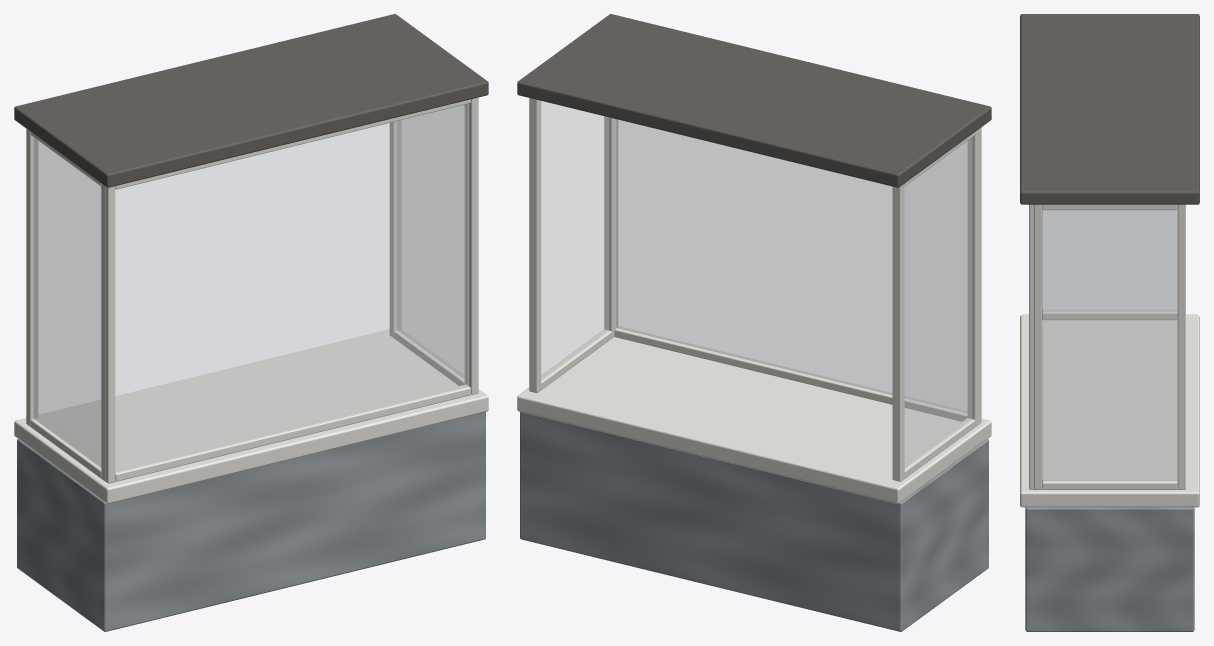
The model's file is paranormal-investigation-house-bay-window-7b2f5081__26703.glb.
3 renders of one model, left to right at view 1: azimuth 30°, elevation 25°; view 2: azimuth 150°, elevation 25°; view 3: azimuth 270°, elevation 25°, orthographic. The views are drawn at different scales.
Parts seen in each view (by area): view 1: bay-window; view 2: bay-window; view 3: bay-window.
Boxes of the visible parts, x1=… form: bay-window: x1=14, y1=14, x2=488, y2=631; bay-window: x1=517, y1=14, x2=991, y2=631; bay-window: x1=1020, y1=14, x2=1199, y2=631.
Bounding box in the file's own units: 2 × 2.3 × 0.8499.
4 materials, 1 textured.
